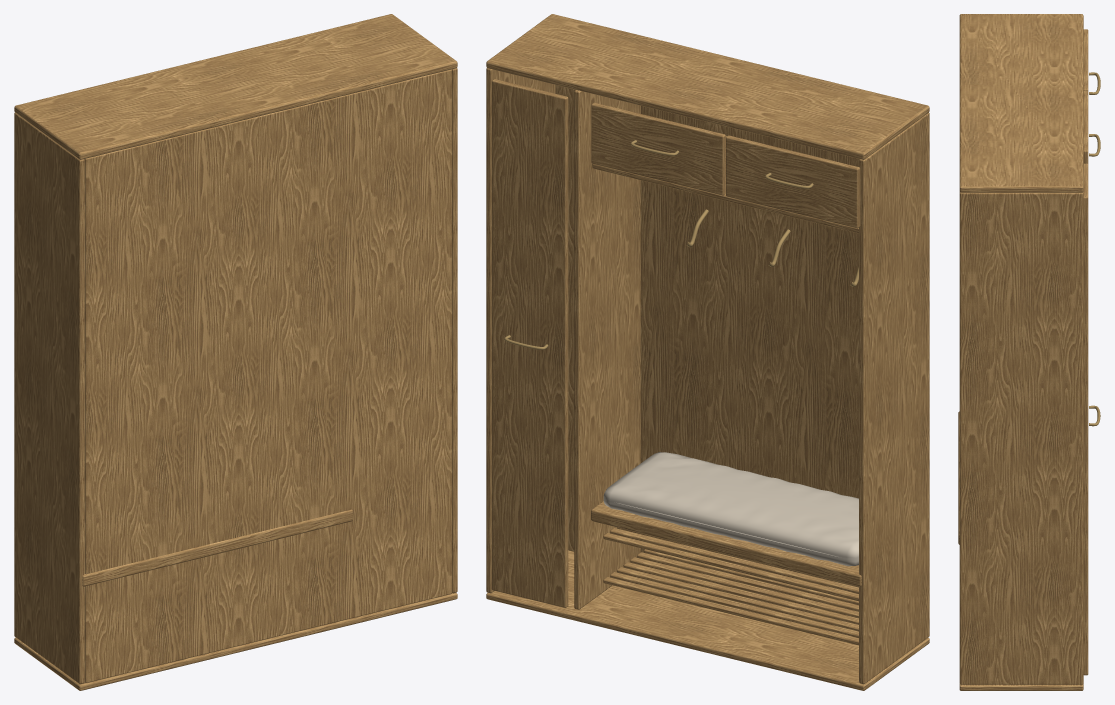
File: residential-entry-locker.glb
3 views of the same model, side by side, from view 1: azimuth 30°, elevation 25°; view 2: azimuth 150°, elevation 25°; view 3: azimuth 270°, elevation 25° (orthographic). The views are drawn at different scales.
Visible parts, largest first — view 1: oak_surfaces; view 2: oak_surfaces, cloth_surfaces, bronze_surfaces; view 3: oak_surfaces, bronze_surfaces.
Part boxes in pixels (x1,y1,x2,y2): oak_surfaces: (14,14,457,690); oak_surfaces: (486,14,929,690); cloth_surfaces: (603,452,858,566); bronze_surfaces: (504,140,858,349); oak_surfaces: (958,14,1088,690); bronze_surfaces: (1089,72,1100,426).
Bounding box in the file's own units: 1.62 × 2.2 × 0.5627.
3 materials, 1 textured.
